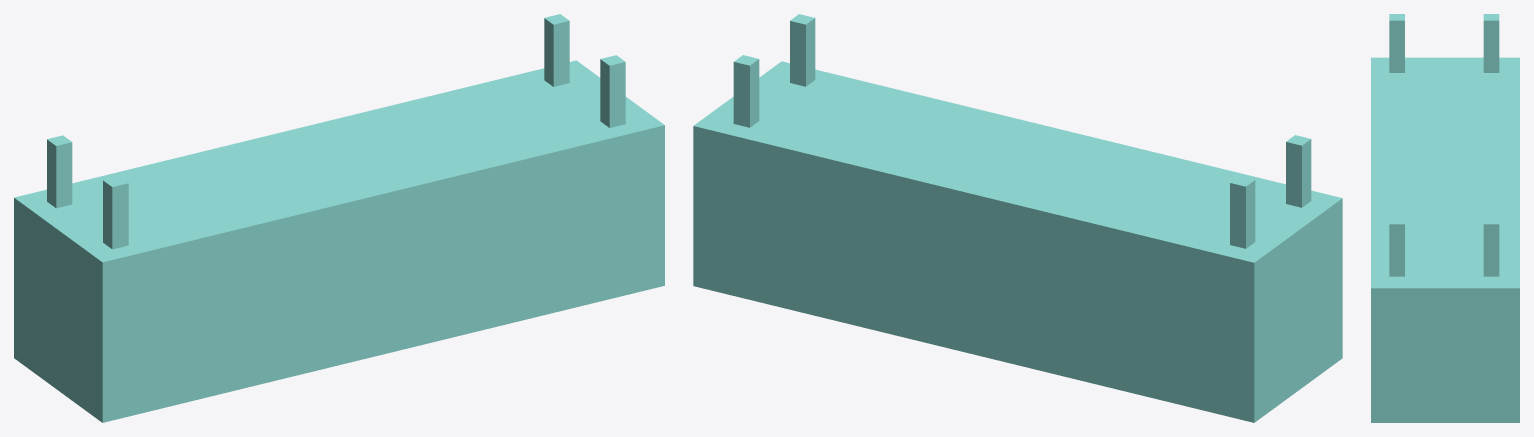
File: VintiTile_Collision.fbx
3 views of the same model, side by side, from view 1: azimuth 30°, elevation 25°; view 2: azimuth 150°, elevation 25°; view 3: azimuth 270°, elevation 25° (orthographic). The views are drawn at different scales.
Parts seen in each view (by area): view 1: VintiTile_Collision; view 2: VintiTile_Collision; view 3: VintiTile_Collision.
Part boxes in pixels (x1,y1,x2,y2): VintiTile_Collision: (14, 14, 664, 422); VintiTile_Collision: (693, 14, 1342, 422); VintiTile_Collision: (1371, 14, 1519, 422).
Bounding box in the file's own units: 1.53 × 0.5804 × 0.4182.
